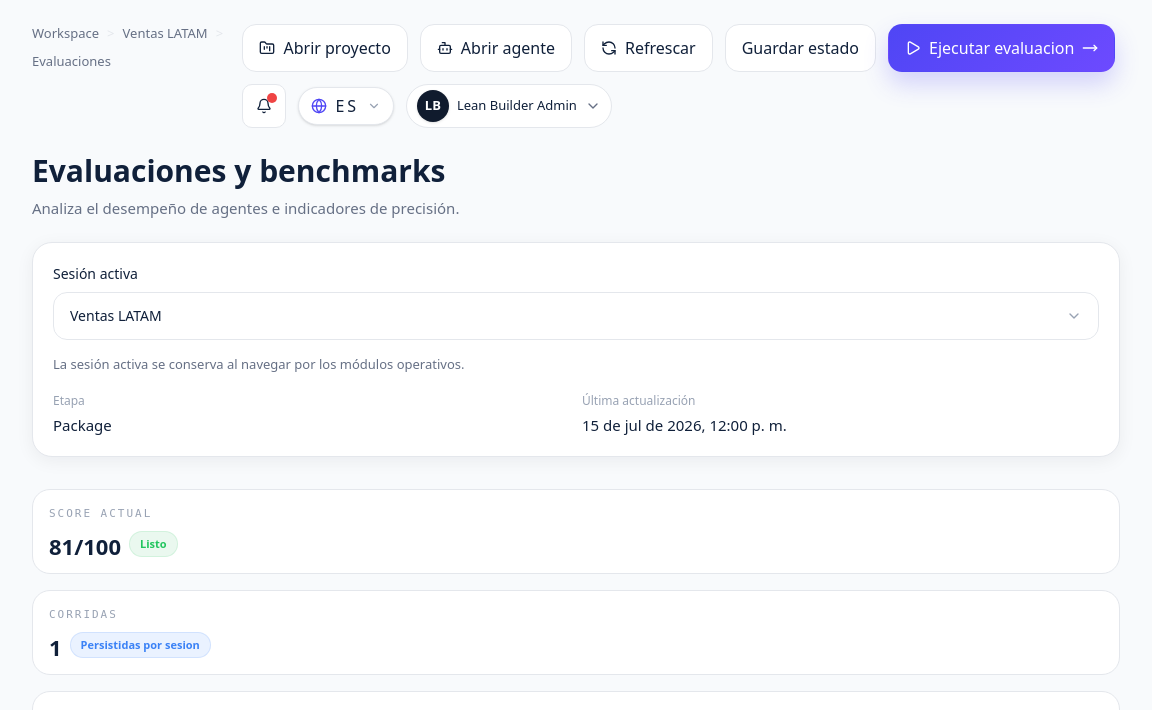
Test case: phase 6 cross-session workspaces › reloads evaluations when the selected session changes
Expected: the text "81/100" is shown, [49,535,121,557]
Select "Soporte TI" in the dropdown with test id "operations-session-select" at [576, 316], box [54,292,1098,338]
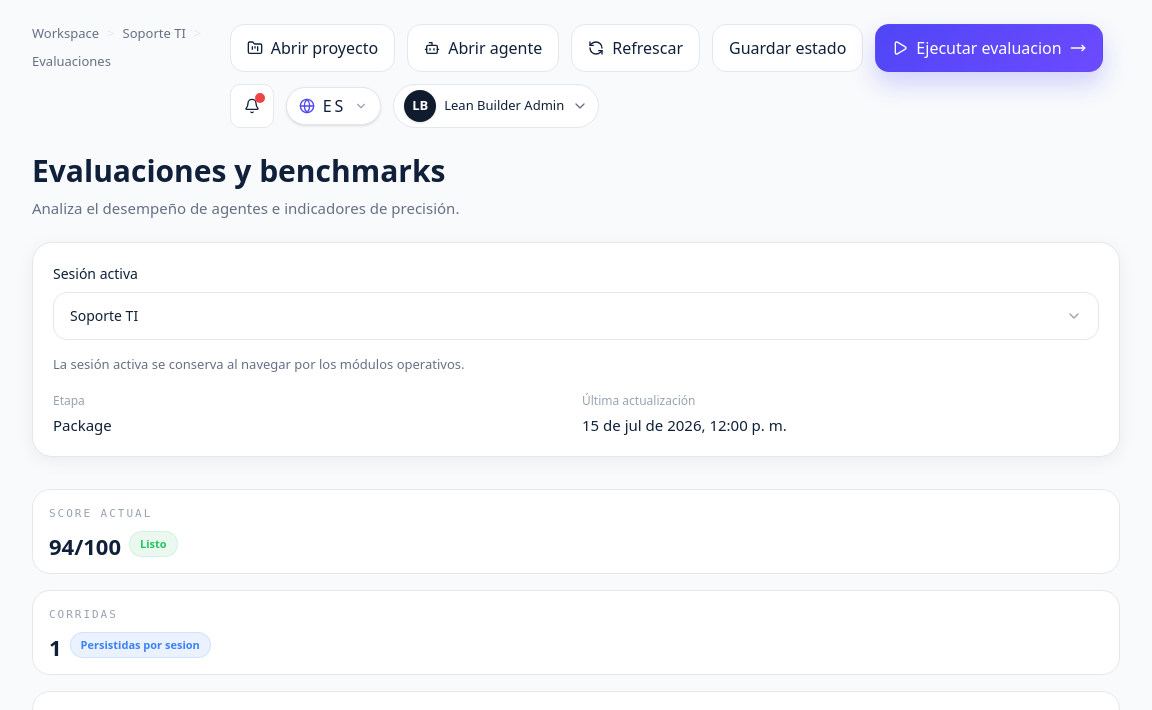
Now the text "94/100" is shown, box [49,535,121,557]
